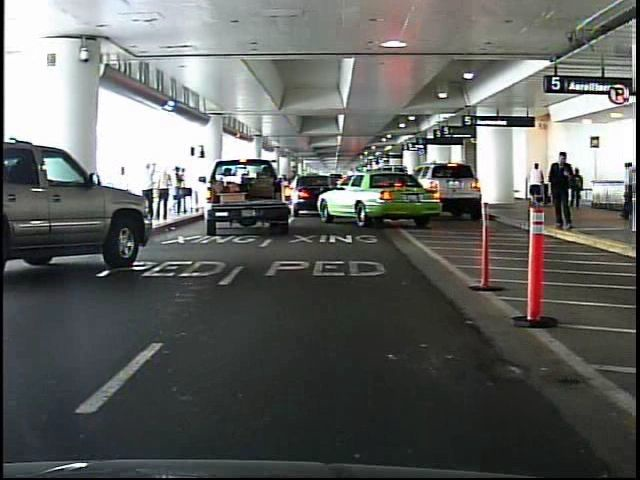person: (548, 145, 580, 235), (569, 168, 586, 212), (529, 161, 544, 208)
